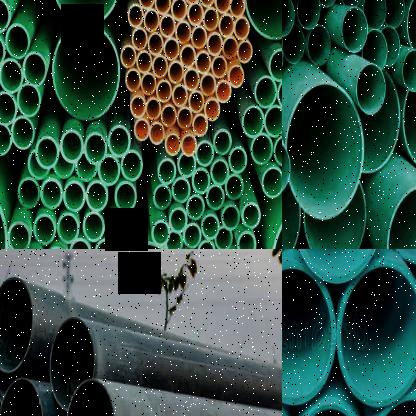pipe: (337, 258, 416, 406), (286, 81, 364, 220), (282, 262, 336, 405), (51, 23, 119, 121), (303, 181, 366, 249), (49, 318, 95, 411), (362, 67, 400, 174), (291, 249, 387, 284), (0, 276, 34, 373), (386, 184, 416, 249), (65, 379, 116, 416), (50, 0, 121, 26), (0, 378, 44, 416), (401, 67, 416, 176), (356, 63, 386, 114), (244, 0, 282, 40), (282, 183, 301, 249), (342, 6, 368, 53), (362, 29, 388, 70), (307, 24, 331, 66), (22, 52, 48, 86), (282, 24, 304, 64), (5, 24, 30, 59), (10, 116, 35, 150), (16, 84, 42, 116), (60, 130, 84, 164), (32, 214, 56, 248), (254, 75, 277, 109), (35, 136, 59, 168), (381, 26, 400, 66), (0, 59, 23, 92), (84, 132, 107, 165), (250, 133, 274, 164), (63, 180, 86, 212), (242, 106, 264, 138), (363, 0, 387, 29), (86, 180, 109, 210), (82, 212, 105, 242), (18, 177, 40, 208), (106, 212, 127, 244), (297, 0, 320, 29), (108, 126, 130, 156), (28, 150, 50, 180), (121, 151, 143, 181), (75, 152, 97, 182), (40, 179, 62, 209), (115, 182, 137, 212), (261, 167, 282, 198), (98, 157, 120, 186), (57, 214, 79, 243), (8, 222, 31, 249), (263, 106, 282, 138), (402, 49, 416, 92), (210, 158, 230, 186), (407, 0, 416, 61), (0, 92, 17, 124), (228, 146, 248, 173), (385, 0, 405, 27), (213, 128, 232, 156), (54, 152, 74, 178), (157, 158, 177, 184), (224, 174, 244, 200), (152, 184, 172, 210), (195, 140, 214, 167), (177, 153, 197, 178), (206, 184, 225, 210), (186, 194, 205, 220), (201, 214, 220, 240), (183, 223, 202, 249), (242, 202, 260, 229), (222, 204, 240, 231), (151, 221, 171, 245), (172, 177, 190, 203), (169, 208, 188, 232), (282, 0, 294, 37), (269, 48, 282, 82), (215, 225, 233, 249), (282, 141, 290, 194), (206, 32, 223, 56), (127, 3, 143, 28), (146, 96, 162, 121), (218, 14, 235, 37), (228, 64, 245, 87), (215, 80, 232, 103), (192, 114, 209, 137), (188, 2, 204, 26), (144, 8, 160, 32), (159, 14, 175, 38), (234, 17, 250, 41), (222, 36, 238, 60), (237, 40, 253, 64), (180, 44, 196, 68), (120, 44, 136, 68), (136, 50, 152, 74), (196, 50, 212, 74), (152, 54, 168, 78), (168, 60, 184, 84), (172, 84, 188, 108), (237, 230, 257, 249), (211, 56, 228, 78), (204, 99, 221, 121), (160, 105, 177, 127), (164, 38, 180, 61), (125, 69, 141, 92), (134, 119, 150, 142), (0, 123, 11, 156), (204, 7, 219, 31), (148, 32, 163, 56), (175, 21, 191, 43), (191, 27, 207, 49), (200, 74, 216, 96), (156, 80, 172, 102), (130, 96, 146, 118), (176, 107, 192, 129), (181, 134, 197, 156), (150, 122, 164, 146), (132, 28, 147, 50), (184, 69, 199, 91), (141, 74, 156, 96), (165, 134, 180, 156), (165, 231, 183, 249), (171, 0, 187, 20), (0, 0, 10, 32), (188, 92, 204, 112), (229, 0, 245, 18), (274, 135, 282, 167), (68, 239, 91, 249), (215, 0, 231, 14), (155, 0, 171, 14), (94, 240, 116, 249), (197, 240, 216, 249), (0, 33, 5, 67), (277, 78, 282, 111), (139, 0, 155, 10), (200, 0, 215, 8)
